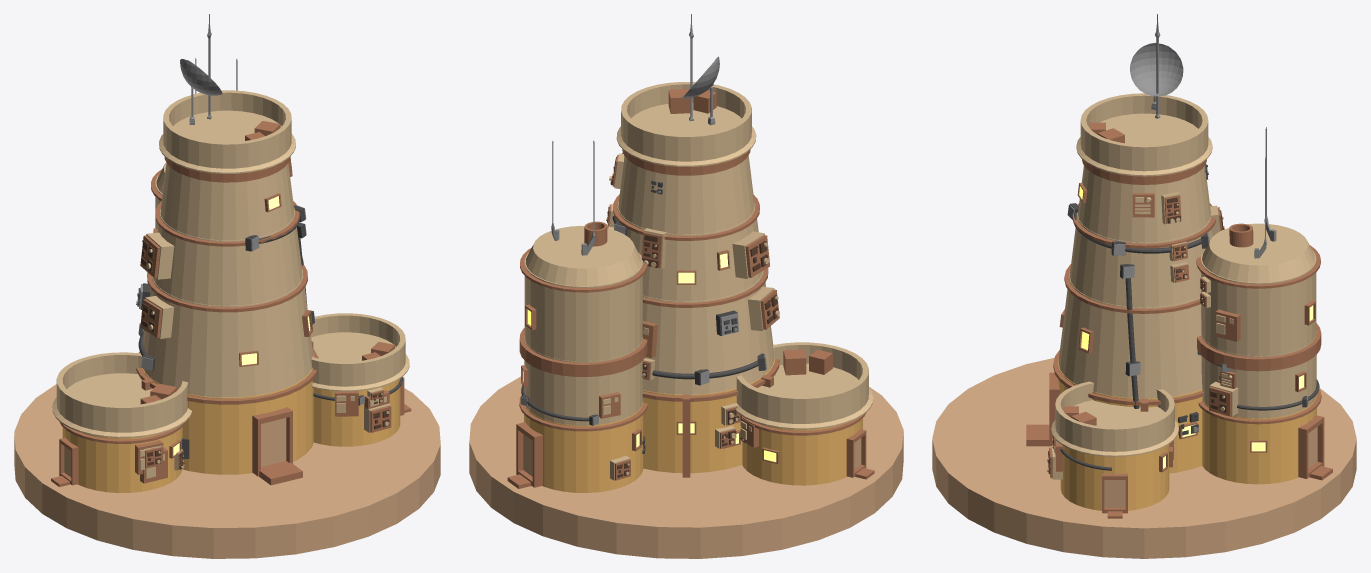
The model's file is nomad_building_07.fbx.
The picture shows the model from 3 angles, left to right: view 1: azimuth 30°, elevation 25°; view 2: azimuth 150°, elevation 25°; view 3: azimuth 270°, elevation 25°; orthographic projection. The views are drawn at different scales.
Visible parts, largest first — view 1: B07_M_Foundation_foundation, B07_M_Drum1, B07_M_Crown_RoofDeck_Ringwall, B07_A2_Crown_RoofDeck_Ringwall, B07_M_Drum2, B07_M_Drum3, B07_M_Drum0, B07_A1_Crown_RoofDeck_Ringwall, B07_A2_Drum0, B07_A1_Drum0, B07_M_Door_Door_Frame, B07_M_Ring10_TowerTrim_BandThin (+10 smaller); view 2: B07_M_Foundation_foundation, B07_M_Drum1, B07_M_Crown_RoofDeck_Ringwall, B07_A3_Drum2, B07_A2_Crown_RoofDeck_Ringwall, B07_M_Drum3, B07_A3_Drum0, B07_M_Drum0, B07_M_Drum2, B07_A3_Drum1, B07_A3_Crown_TowerBody_RoofCap, B07_A2_Drum0 (+17 smaller); view 3: B07_M_Foundation_foundation, B07_M_Drum1, B07_M_Crown_RoofDeck_Ringwall, B07_A3_Drum2, B07_M_Drum2, B07_M_Drum3, B07_A1_Crown_RoofDeck_Ringwall, B07_A3_Drum0, B07_A3_Crown_TowerBody_RoofCap, B07_A1_Drum0, B07_A3_Drum1, B07_M_Dish0_AntennaDish_Reflector (+14 smaller).
Part boxes in pixels (box(x1,y1,x2,y2)): B07_M_Foundation_foundation: box(14, 384, 440, 558); B07_M_Drum1: box(143, 269, 313, 397); B07_M_Crown_RoofDeck_Ringwall: box(159, 90, 295, 173); B07_A2_Crown_RoofDeck_Ringwall: box(52, 352, 192, 438); B07_M_Drum2: box(152, 208, 302, 305); B07_M_Drum3: box(160, 162, 294, 240); B07_M_Drum0: box(141, 356, 313, 474); B07_A1_Crown_RoofDeck_Ringwall: box(311, 313, 409, 391); B07_A2_Drum0: box(62, 427, 182, 492); B07_A1_Drum0: box(313, 379, 400, 446); B07_M_Door_Door_Frame: box(252, 407, 292, 476); B07_M_Ring10_TowerTrim_BandThin: box(147, 264, 307, 312); B07_M_Foundation_foundation: box(469, 376, 903, 558); B07_M_Drum1: box(643, 270, 774, 394); B07_M_Crown_RoofDeck_Ringwall: box(616, 82, 756, 166); B07_A3_Drum2: box(524, 253, 642, 361); B07_A2_Crown_RoofDeck_Ringwall: box(735, 342, 873, 429); B07_M_Drum3: box(618, 156, 754, 234); B07_A3_Drum0: box(524, 401, 643, 492); B07_M_Drum0: box(643, 358, 774, 473); B07_M_Drum2: box(617, 201, 762, 301); B07_A3_Drum1: box(524, 336, 642, 425); B07_A3_Crown_TowerBody_RoofCap: box(525, 225, 641, 286); B07_A2_Drum0: box(742, 418, 862, 485); B07_M_Foundation_foundation: box(932, 358, 1356, 558); B07_M_Drum1: box(1058, 273, 1202, 398); B07_M_Crown_RoofDeck_Ringwall: box(1076, 93, 1212, 176); B07_A3_Drum2: box(1201, 250, 1316, 356); B07_M_Drum2: box(1069, 212, 1213, 307); B07_M_Drum3: box(1078, 165, 1210, 242); B07_A1_Crown_RoofDeck_Ringwall: box(1051, 381, 1178, 456); B07_A3_Drum0: box(1202, 394, 1316, 484); B07_A3_Crown_TowerBody_RoofCap: box(1202, 223, 1315, 282); B07_A1_Drum0: box(1060, 444, 1169, 510); B07_A3_Drum1: box(1201, 331, 1316, 418); B07_M_Dish0_AntennaDish_Reflector: box(1130, 43, 1183, 96).
Size of the model in its own units: 654 by 764 by 654.
